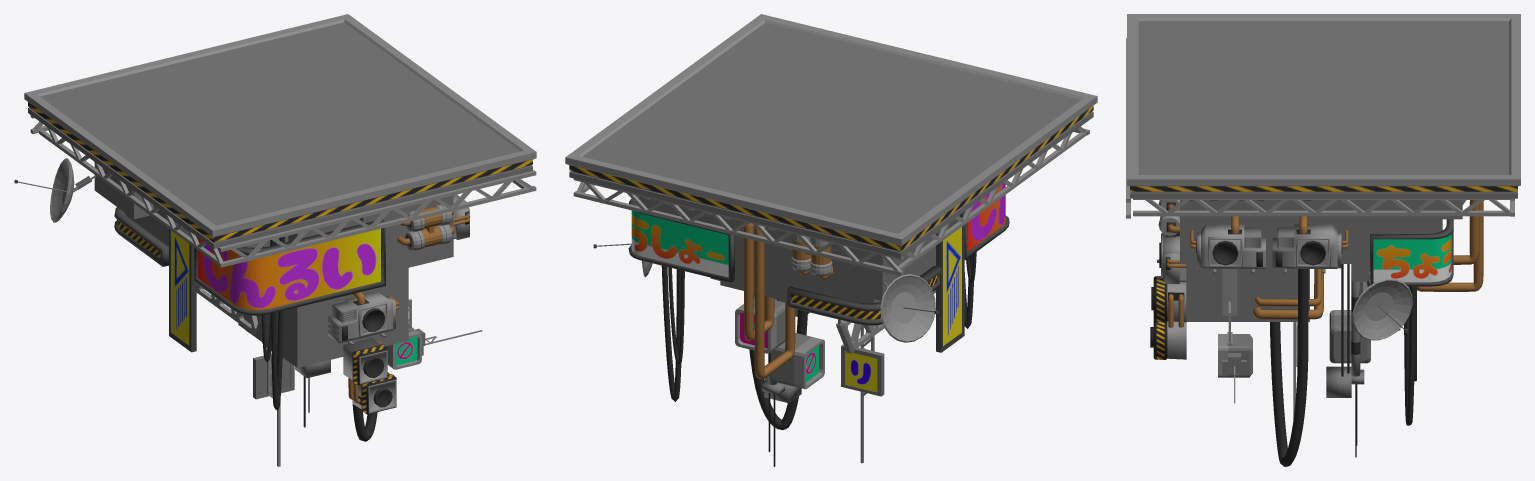
3 views of the same model, side by side, from view 1: azimuth 30°, elevation 25°; view 2: azimuth 150°, elevation 25°; view 3: azimuth 270°, elevation 25° (orthographic). The views are drawn at different scales.
Parts seen in each view (by area): view 1: Platform_4x4; view 2: Platform_4x4; view 3: Platform_4x4.
Boxes of the visible parts, left/top/right/bottom form: Platform_4x4: left=14, top=14, right=536, bottom=466; Platform_4x4: left=565, top=14, right=1097, bottom=466; Platform_4x4: left=1126, top=14, right=1520, bottom=466.
Bounding box in the file's own units: 4.47 × 3.76 × 3.9.
6 materials, 1 textured.
